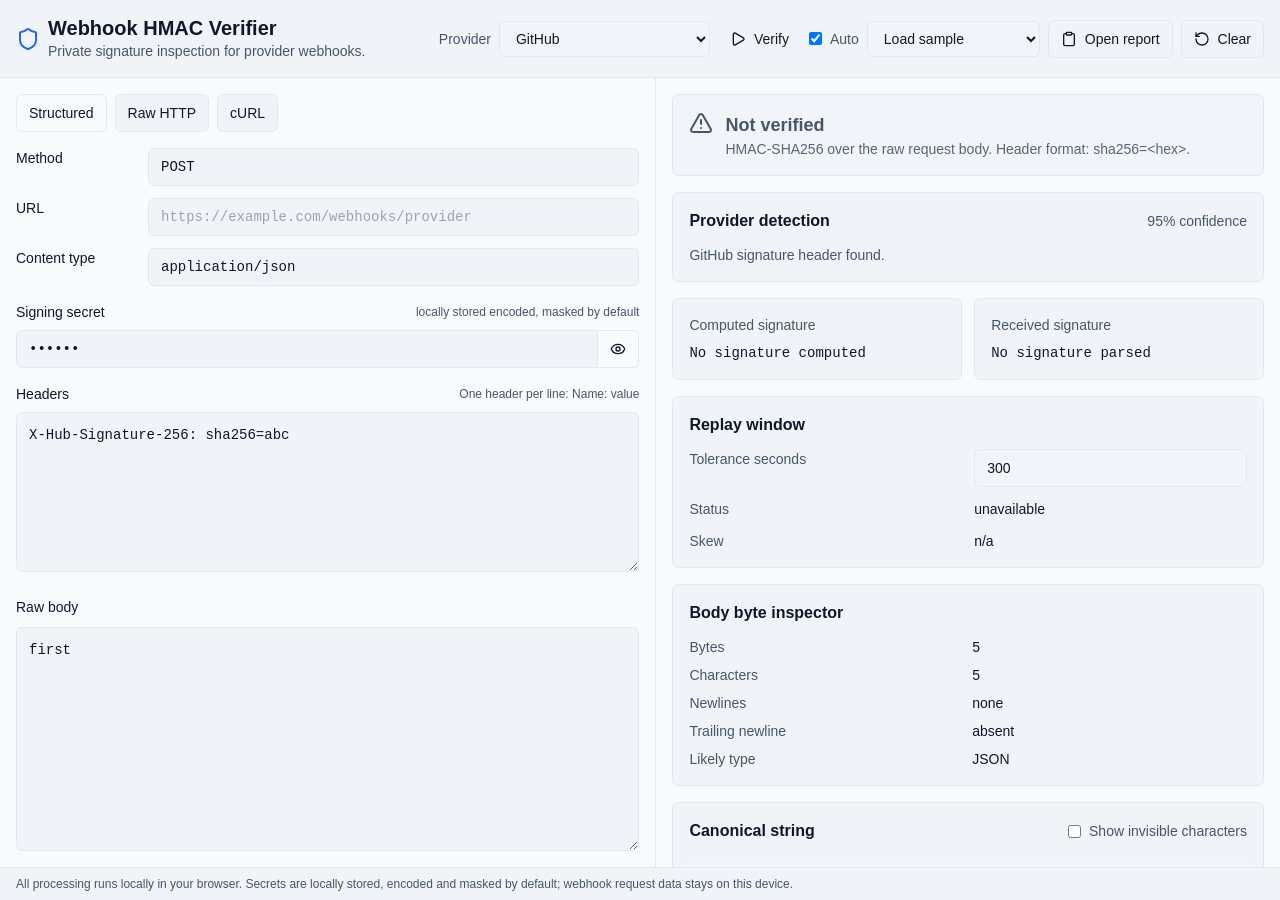
WebhookHmacUI verification ordering › does not let stale auto-verification results overwrite newer results
The image size is (1280, 900).
Replace the text in the text box with test id "webhook-body-input" with "second" at (328, 739), box [16,627,639,851]
Wait 250 ms
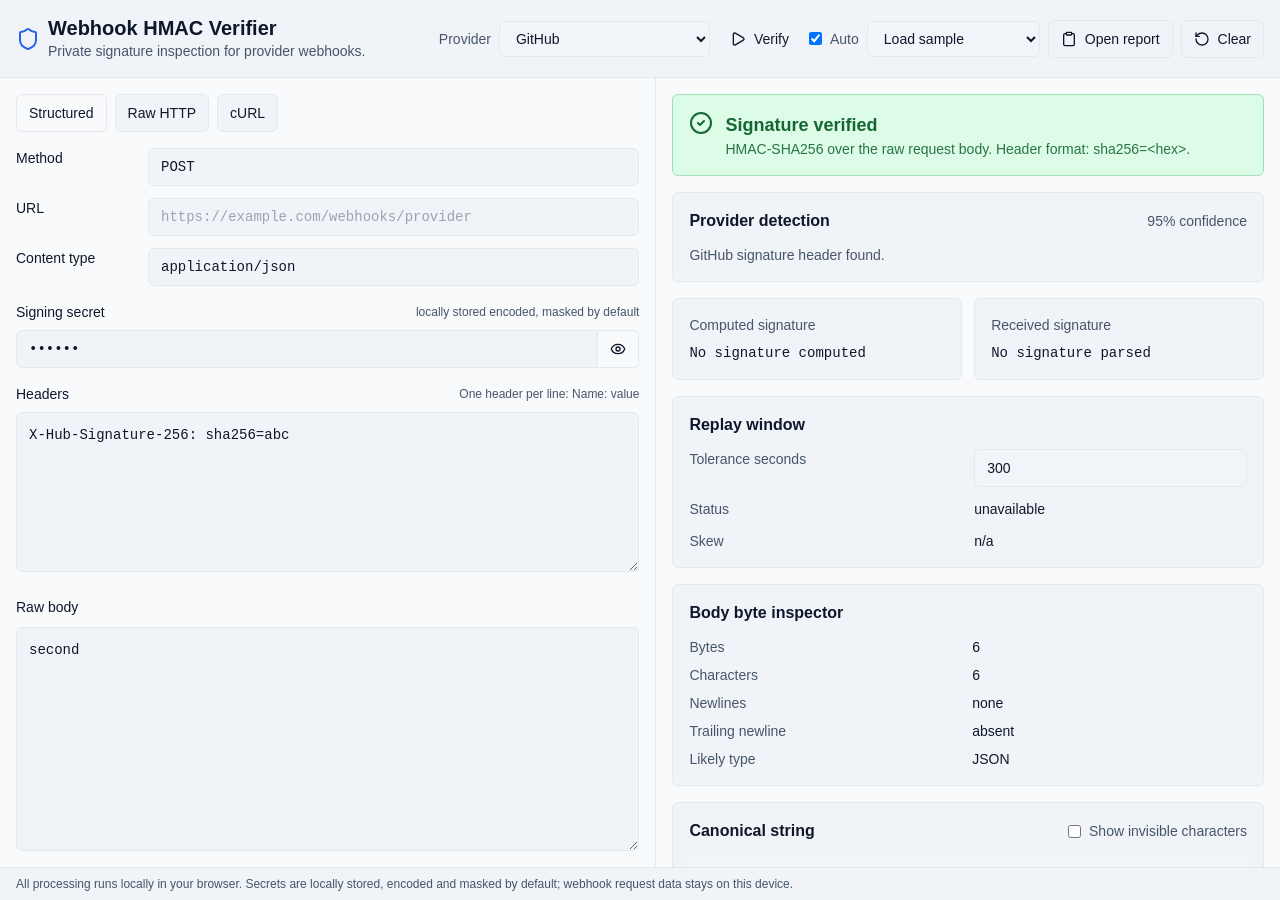
Now the message with test id "webhook-verification-status" shows "Signature verified", box [725,115,877,135]
